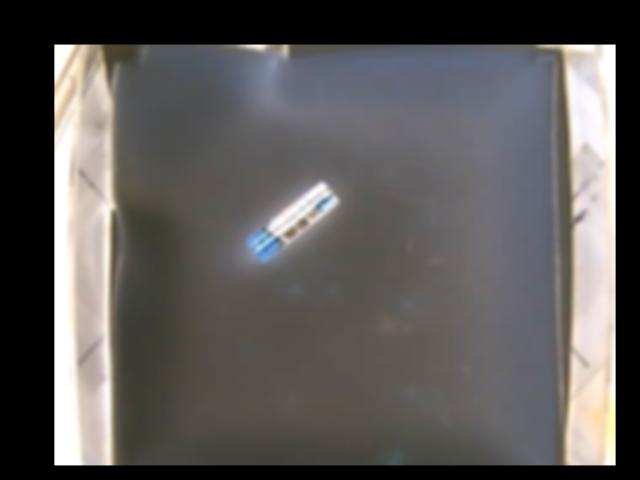Battery: (246, 178, 338, 260)
